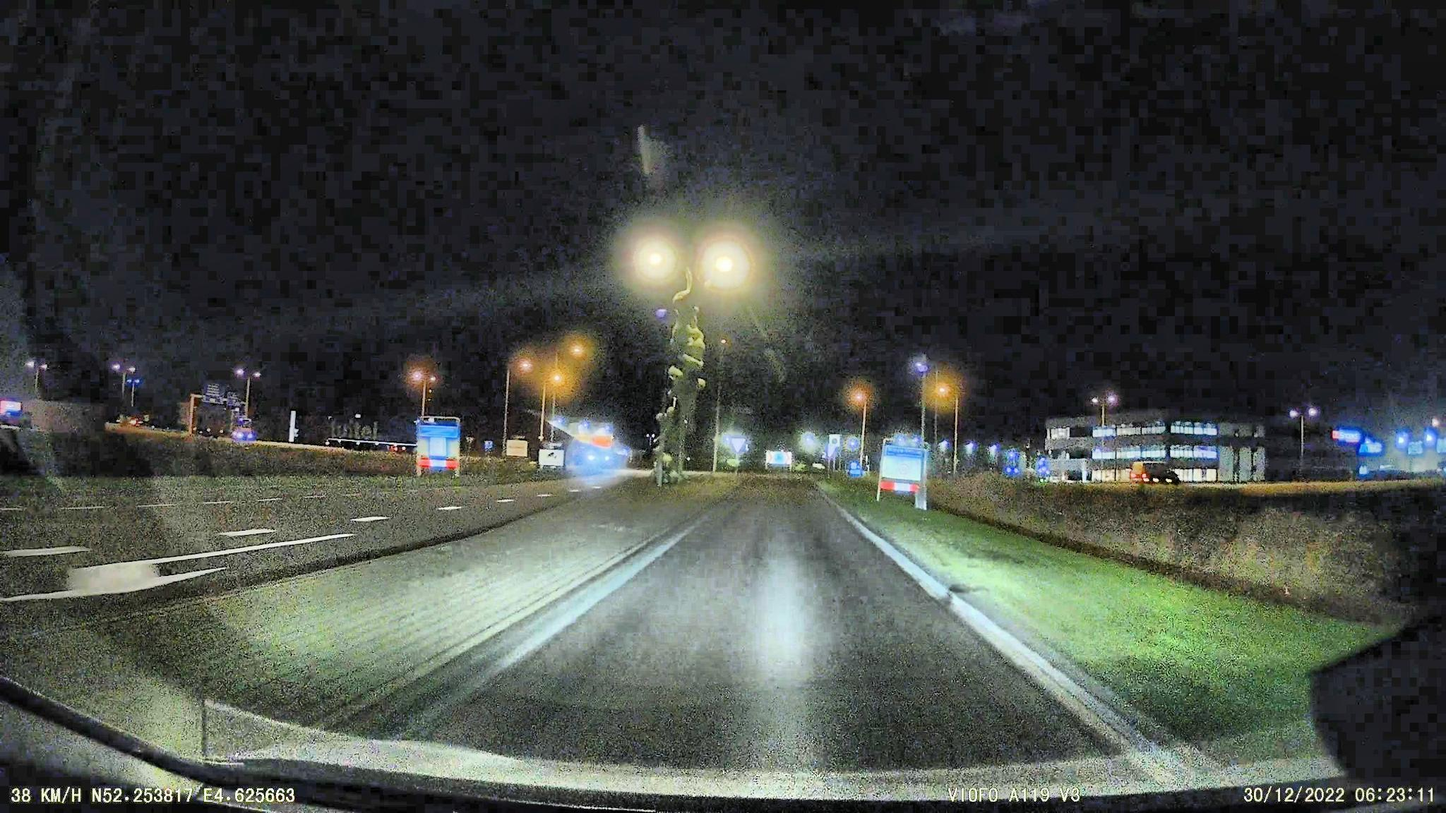Roads: (460, 487, 1131, 767)
